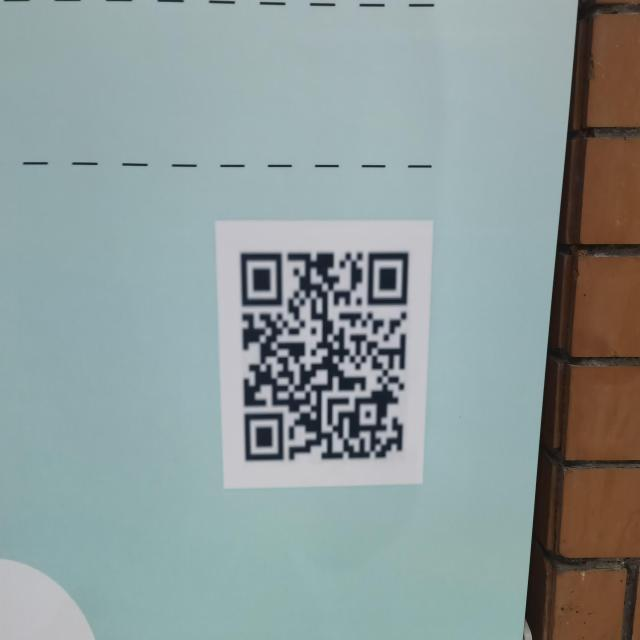qr_code: (240, 252, 409, 461)
